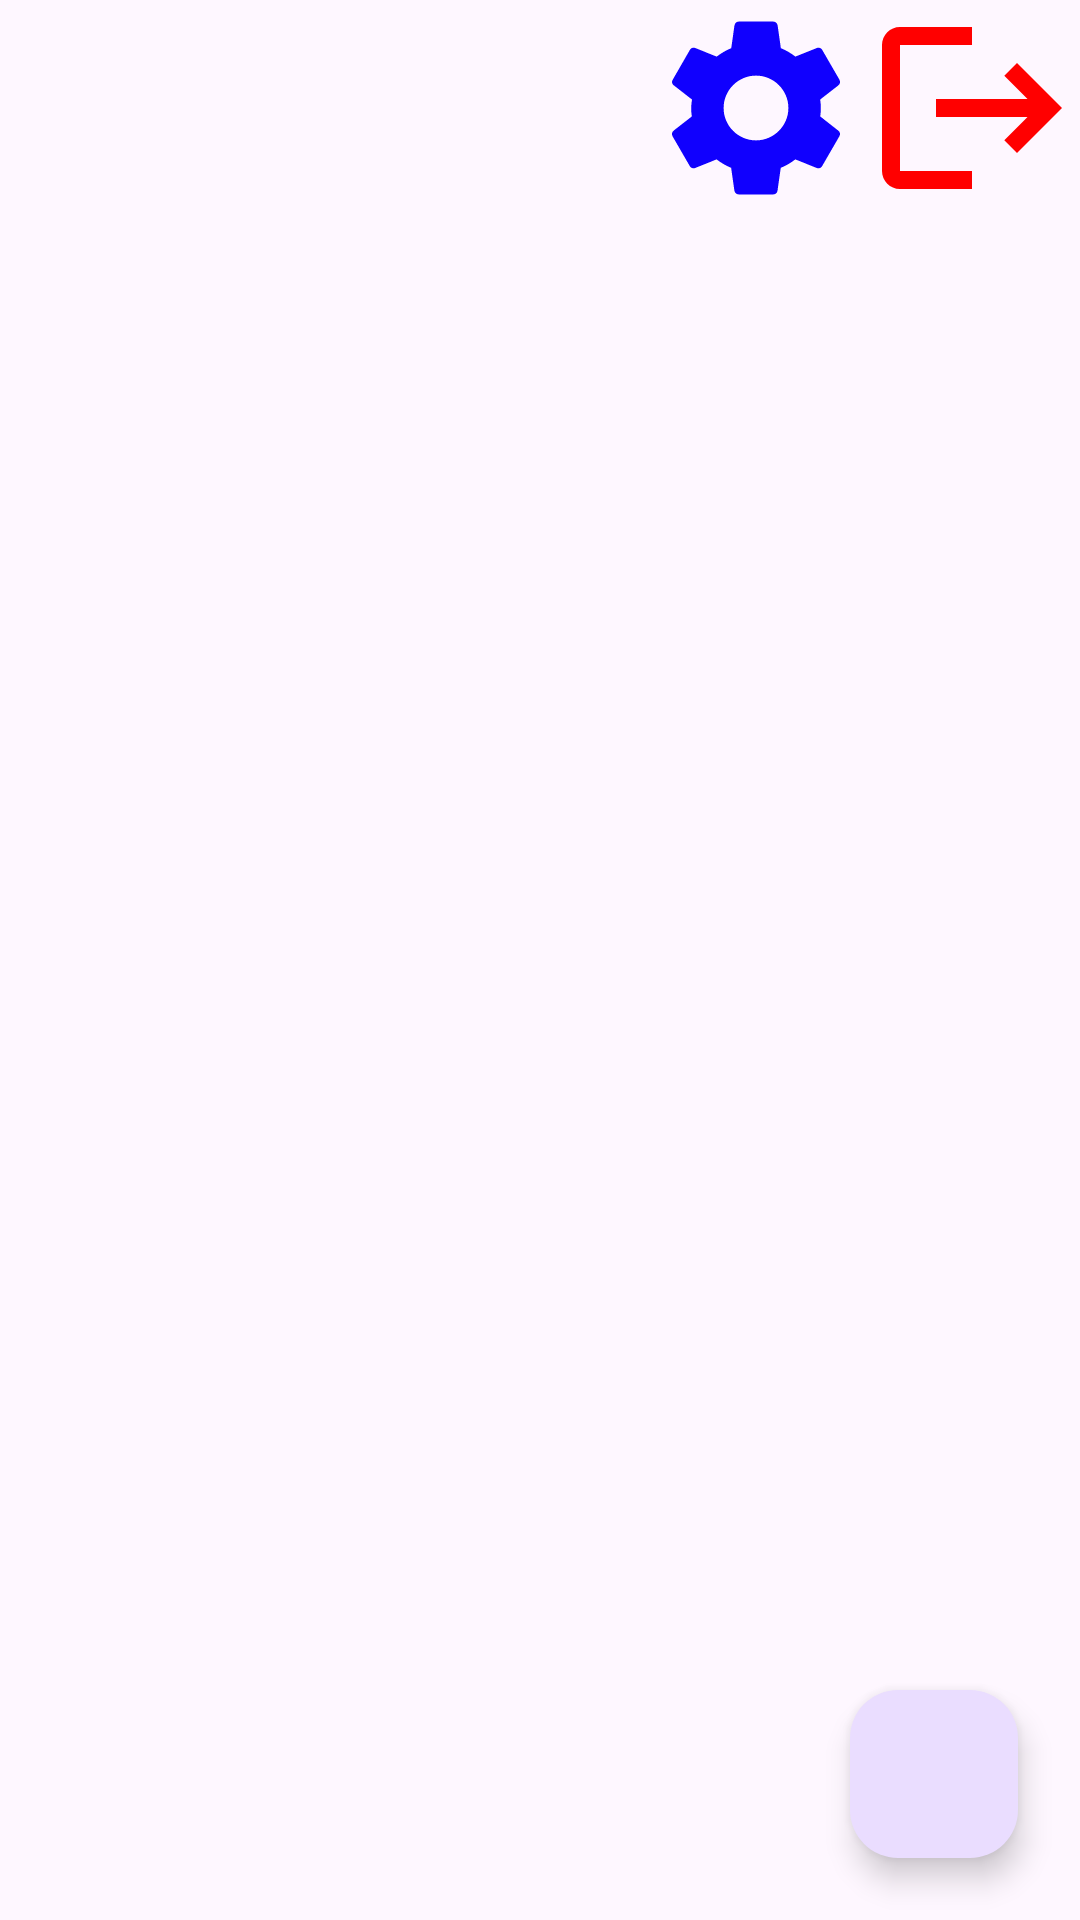

Icons on this 1080 × 1920 Android screen, each with the point to tap as (x,y):
Open Settings: (756,108)
